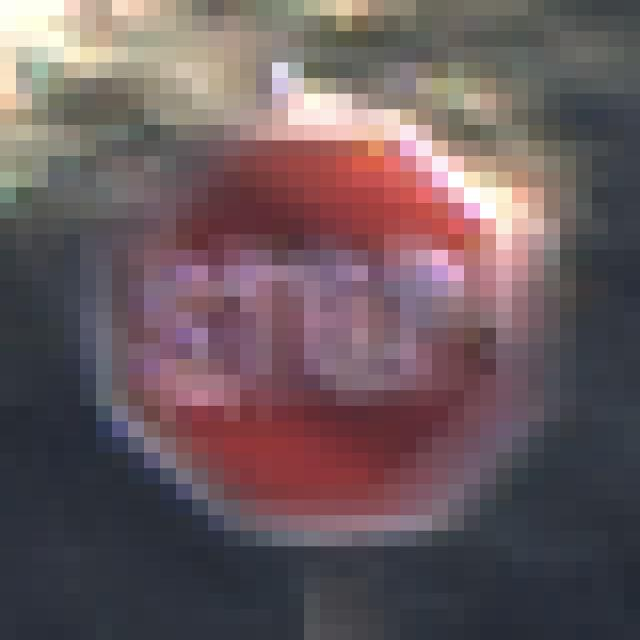STOP: (81, 79, 561, 563)
